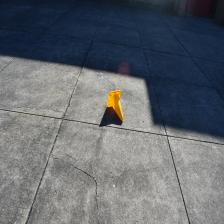cone: (108, 90, 124, 120)
